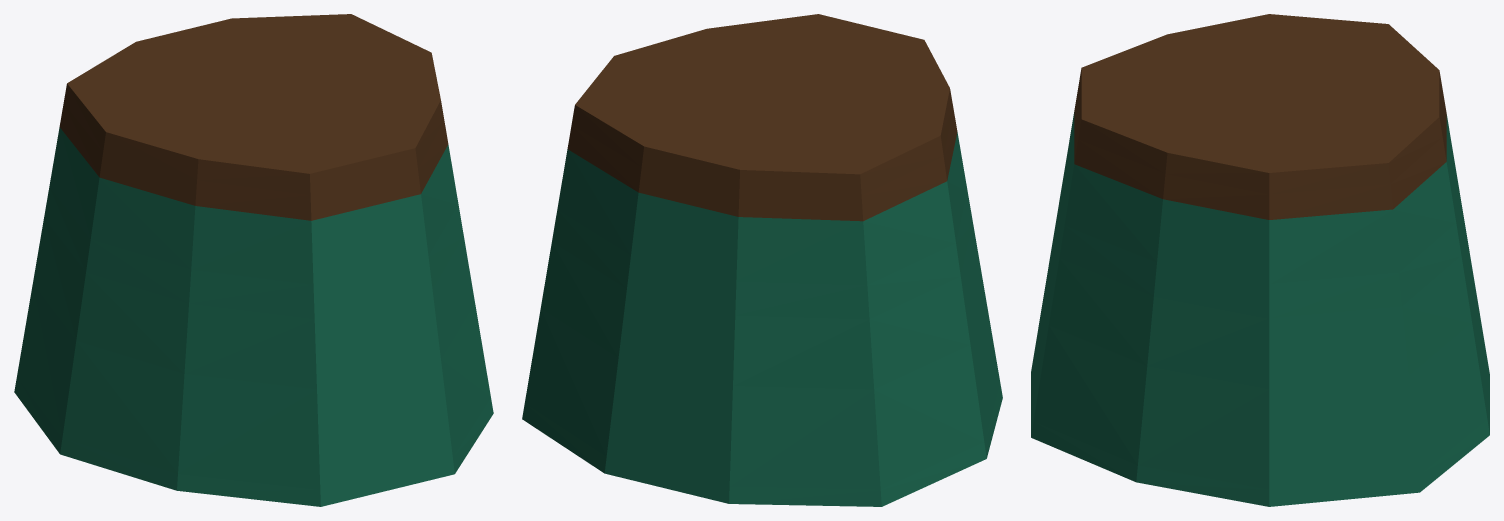
Rendered from bottle_family__molten.obj.
3 renders of one model, left to right at view 1: azimuth 30°, elevation 25°; view 2: azimuth 150°, elevation 25°; view 3: azimuth 270°, elevation 25°, orthographic.
Parts seen in each view (by area): view 1: ITEM_Bottle_Family.001_MAT_GlassEmerald, ITEM_Bottle_Family.001_MAT_Cork; view 2: ITEM_Bottle_Family.001_MAT_GlassEmerald, ITEM_Bottle_Family.001_MAT_Cork; view 3: ITEM_Bottle_Family.001_MAT_GlassEmerald, ITEM_Bottle_Family.001_MAT_Cork.
Boxes of the visible parts, bbox=[...] form: ITEM_Bottle_Family.001_MAT_GlassEmerald: bbox=[14, 127, 493, 506]; ITEM_Bottle_Family.001_MAT_Cork: bbox=[59, 14, 448, 220]; ITEM_Bottle_Family.001_MAT_GlassEmerald: bbox=[522, 132, 1002, 506]; ITEM_Bottle_Family.001_MAT_Cork: bbox=[567, 14, 957, 221]; ITEM_Bottle_Family.001_MAT_GlassEmerald: bbox=[1031, 112, 1489, 506]; ITEM_Bottle_Family.001_MAT_Cork: bbox=[1074, 14, 1446, 219].
Size of the model in its own units: 0.92 by 0.6552 by 0.875.
